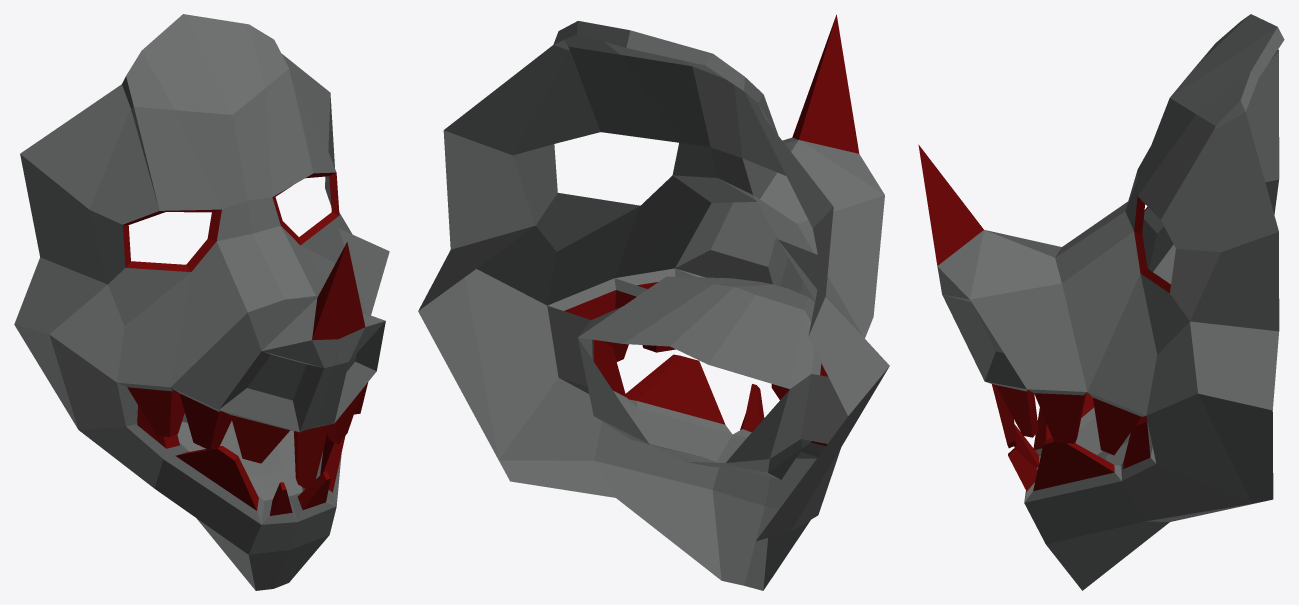
File: RedAssassinMask.fbx
The picture shows the model from 3 angles, left to right: view 1: azimuth 30°, elevation 25°; view 2: azimuth 150°, elevation 25°; view 3: azimuth 270°, elevation 25°; orthographic projection. The views are drawn at different scales.
Parts seen in each view (by area): view 1: AssassinMask; view 2: AssassinMask; view 3: AssassinMask.
Part boxes in pixels (bbox=[...]): AssassinMask: bbox=[14, 14, 389, 590]; AssassinMask: bbox=[418, 14, 889, 590]; AssassinMask: bbox=[918, 14, 1284, 590].
Size of the model in its own units: 0.2415 by 0.3427 by 0.2044.
